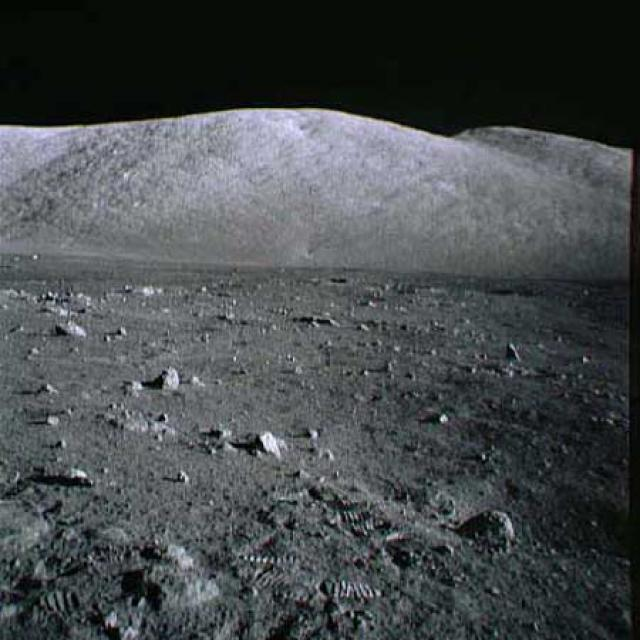rock: (98, 400, 181, 440), (458, 500, 519, 545), (47, 316, 90, 342), (252, 426, 284, 458), (295, 311, 340, 332), (155, 362, 181, 396), (99, 324, 134, 345), (502, 337, 524, 363)
